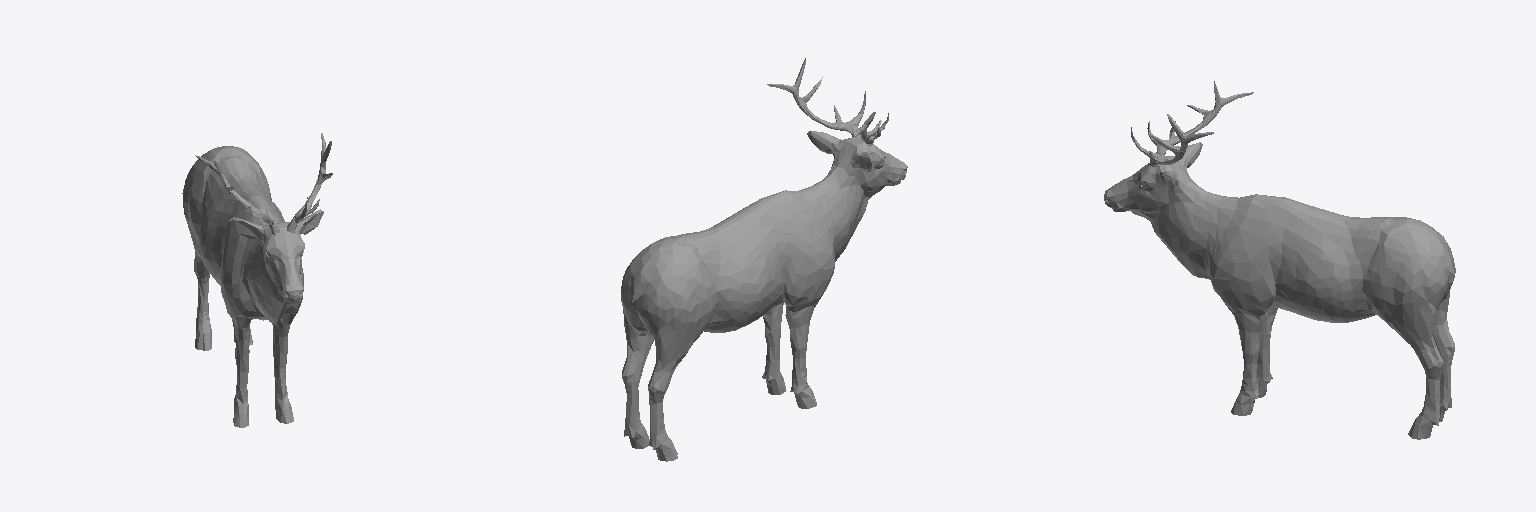
Rendered from Elk.obj.
The picture shows the model from 3 angles: view 1: azimuth 30°, elevation 25°; view 2: azimuth 150°, elevation 25°; view 3: azimuth 270°, elevation 25°; orthographic projection.
Visible parts, largest first — view 1: Elk; view 2: Elk; view 3: Elk.
Boxes of the visible parts, x1,y1,x2,y2 form: Elk: [182, 133, 332, 427]; Elk: [621, 58, 907, 461]; Elk: [1104, 81, 1455, 439].
Bounding box in the file's own units: 0.3503 × 0.6726 × 0.7069.